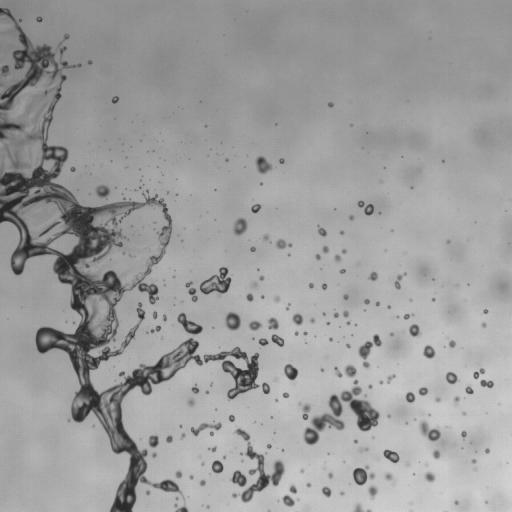droplet: (198, 267, 232, 297), (418, 420, 441, 441), (352, 464, 375, 485), (224, 311, 241, 331), (283, 363, 298, 385), (255, 155, 272, 174), (297, 401, 312, 421), (232, 217, 247, 236), (94, 184, 110, 199), (357, 200, 373, 215), (382, 449, 399, 463), (281, 494, 299, 507), (422, 344, 435, 359), (445, 371, 460, 384), (275, 238, 292, 249), (408, 324, 421, 337), (271, 334, 284, 347), (211, 460, 223, 474), (266, 317, 279, 329), (384, 472, 396, 485), (367, 485, 378, 499), (247, 320, 262, 330), (473, 367, 485, 379), (292, 312, 303, 325), (148, 435, 159, 447), (424, 471, 435, 482), (29, 37, 40, 48), (106, 192, 117, 203), (78, 196, 89, 207), (91, 196, 102, 207), (244, 212, 255, 223), (224, 218, 235, 229), (340, 219, 351, 230), (9, 236, 20, 247), (321, 252, 332, 263), (26, 255, 37, 266), (153, 300, 164, 311), (142, 302, 153, 313), (71, 312, 82, 323), (142, 316, 153, 327), (215, 316, 226, 327), (65, 323, 76, 334), (261, 327, 272, 338), (115, 328, 126, 339), (415, 335, 426, 346), (106, 339, 117, 350), (351, 355, 362, 366), (462, 374, 473, 385), (224, 376, 235, 387), (342, 379, 353, 390), (92, 381, 103, 392), (453, 381, 464, 392), (269, 385, 280, 396), (250, 386, 261, 397), (120, 396, 131, 407), (85, 411, 96, 422), (347, 411, 358, 422), (222, 421, 233, 432), (98, 431, 109, 442), (135, 439, 146, 450), (236, 439, 247, 450), (119, 451, 130, 462), (427, 461, 438, 472), (263, 464, 274, 475), (222, 466, 233, 477), (117, 467, 128, 478), (246, 473, 257, 484), (279, 474, 290, 485), (133, 482, 144, 493), (277, 483, 288, 494), (317, 224, 327, 236), (405, 391, 415, 403), (251, 203, 262, 213), (367, 271, 378, 281), (321, 486, 331, 497), (261, 382, 270, 394), (417, 386, 429, 395), (386, 373, 396, 383), (190, 383, 199, 394), (288, 483, 297, 494), (262, 233, 271, 243), (258, 338, 268, 347), (465, 383, 473, 394), (249, 280, 258, 289), (6, 57, 15, 66), (60, 161, 69, 170), (248, 161, 257, 170), (318, 236, 327, 245), (328, 246, 337, 255), (143, 275, 152, 284), (168, 313, 177, 322), (316, 315, 325, 324), (239, 318, 248, 327), (260, 319, 269, 328), (300, 320, 309, 329), (325, 326, 334, 335), (48, 347, 57, 356), (59, 350, 68, 359), (470, 379, 479, 388), (340, 400, 349, 409), (369, 400, 378, 409), (307, 409, 316, 418), (232, 419, 241, 428), (303, 419, 312, 428), (122, 422, 131, 431), (411, 423, 420, 432), (317, 429, 326, 438), (430, 440, 439, 449), (212, 451, 221, 460), (476, 451, 485, 460), (248, 458, 257, 467), (325, 479, 334, 488), (166, 490, 175, 499), (334, 253, 342, 263), (432, 449, 440, 459), (187, 397, 195, 406), (357, 447, 369, 453), (453, 395, 460, 405), (130, 505, 141, 511), (281, 505, 292, 511), (449, 505, 460, 511), (272, 295, 280, 303), (208, 445, 217, 452), (333, 308, 339, 318), (322, 245, 329, 253), (246, 293, 253, 301), (342, 310, 349, 318), (228, 414, 235, 422), (175, 470, 182, 478), (151, 310, 157, 319), (112, 96, 119, 103), (363, 298, 370, 305), (7, 20, 14, 27), (24, 30, 31, 37), (60, 67, 67, 74), (45, 139, 52, 146), (254, 150, 261, 157), (264, 155, 271, 162), (265, 169, 272, 176), (257, 172, 264, 179), (106, 182, 113, 189), (232, 213, 239, 220), (2, 220, 9, 227), (245, 220, 252, 227), (240, 231, 247, 238), (231, 233, 238, 240), (270, 235, 277, 242), (282, 246, 289, 253), (50, 253, 57, 260), (337, 261, 344, 268), (51, 272, 58, 279), (192, 282, 199, 289), (314, 282, 321, 289), (64, 283, 71, 290), (194, 289, 201, 296), (141, 290, 148, 297), (252, 292, 259, 299), (379, 301, 386, 308), (150, 303, 157, 310), (233, 307, 240, 314), (288, 308, 295, 315), (144, 311, 151, 318), (326, 313, 333, 320), (301, 316, 308, 323), (155, 317, 162, 324), (276, 317, 283, 324), (194, 318, 201, 325), (406, 318, 413, 325), (43, 320, 50, 327), (292, 323, 299, 330), (296, 324, 303, 331), (269, 327, 276, 334), (231, 328, 238, 335), (273, 328, 280, 335), (184, 332, 191, 339), (191, 333, 198, 340), (358, 338, 365, 345), (225, 344, 232, 351), (370, 344, 377, 351), (212, 347, 219, 354), (365, 354, 372, 361), (256, 357, 263, 364), (188, 358, 195, 365), (98, 359, 105, 366), (149, 359, 156, 366), (338, 366, 345, 373), (88, 368, 95, 375), (125, 369, 132, 376), (478, 373, 485, 380), (254, 377, 261, 384), (372, 381, 379, 388), (73, 383, 80, 390), (133, 384, 140, 391), (198, 385, 205, 392), (360, 385, 367, 392), (188, 391, 195, 398), (413, 392, 420, 399), (323, 394, 330, 401), (325, 407, 332, 414), (65, 411, 72, 418), (337, 413, 344, 420), (416, 415, 423, 422), (120, 416, 127, 423), (70, 419, 77, 426), (95, 422, 102, 429), (427, 422, 434, 429), (437, 425, 444, 432), (202, 427, 209, 434), (100, 430, 107, 437), (236, 434, 243, 441), (421, 435, 428, 442), (157, 436, 164, 443), (312, 441, 319, 448), (303, 442, 310, 449), (152, 445, 159, 452), (146, 446, 153, 453), (252, 446, 259, 453), (143, 454, 150, 461), (282, 463, 289, 470), (421, 466, 428, 473), (428, 466, 435, 473), (240, 468, 247, 475), (142, 470, 149, 477), (181, 471, 188, 478), (433, 472, 440, 479), (170, 475, 177, 482), (193, 475, 200, 482), (155, 476, 162, 483), (364, 479, 371, 486), (423, 479, 430, 486), (157, 488, 164, 495), (252, 490, 259, 497), (289, 492, 296, 499), (107, 497, 114, 504), (348, 503, 355, 510), (360, 503, 367, 510), (308, 282, 314, 290), (321, 282, 327, 290), (166, 435, 172, 443), (348, 214, 354, 221), (315, 253, 321, 260), (309, 317, 315, 324), (272, 376, 279, 382), (282, 392, 289, 398), (327, 472, 333, 479), (199, 479, 205, 486), (162, 314, 167, 322), (36, 16, 42, 22), (278, 158, 284, 164), (341, 248, 347, 254), (435, 396, 441, 402), (0, 138, 4, 147), (339, 268, 346, 273), (180, 432, 185, 439), (0, 0, 5, 7), (328, 102, 334, 107), (250, 246, 256, 251), (259, 275, 264, 281), (343, 294, 348, 300), (374, 301, 380, 306), (483, 308, 488, 314), (481, 322, 486, 328), (303, 330, 308, 336), (345, 343, 351, 348), (484, 448, 490, 453), (151, 452, 156, 458), (471, 458, 477, 463), (454, 499, 459, 505), (444, 424, 451, 428), (70, 166, 75, 171), (339, 230, 344, 235), (445, 239, 450, 244), (345, 320, 350, 325), (378, 380, 383, 385), (266, 444, 271, 449), (405, 461, 410, 466), (300, 468, 305, 473), (306, 482, 311, 487), (145, 490, 150, 495), (9, 9, 14, 14), (1, 13, 6, 18), (17, 21, 22, 26), (58, 34, 63, 39), (45, 41, 50, 46), (9, 47, 14, 52), (49, 47, 54, 52), (61, 56, 66, 61), (73, 59, 78, 64), (66, 60, 71, 65), (81, 61, 86, 66), (73, 66, 78, 71), (61, 80, 66, 85), (328, 97, 333, 102), (61, 142, 66, 147), (279, 153, 284, 158), (63, 183, 68, 188), (141, 185, 146, 190), (71, 190, 76, 195), (149, 192, 154, 197), (140, 197, 145, 202), (252, 199, 257, 204), (359, 206, 364, 211), (372, 208, 377, 213), (166, 209, 171, 214), (346, 210, 351, 215), (365, 214, 370, 219), (170, 215, 175, 220), (344, 216, 349, 221), (170, 220, 175, 225), (323, 225, 328, 230), (313, 226, 318, 231), (325, 228, 330, 233), (261, 229, 266, 234), (258, 232, 263, 237), (169, 233, 174, 238), (317, 234, 322, 239), (168, 238, 173, 243), (284, 238, 289, 243), (271, 239, 276, 244), (165, 244, 170, 249), (343, 244, 348, 249), (11, 245, 16, 250), (336, 249, 341, 254), (318, 250, 323, 255), (339, 252, 344, 257), (35, 254, 40, 259), (311, 256, 316, 261), (316, 259, 321, 264), (5, 260, 10, 265), (157, 260, 162, 265), (150, 264, 155, 269), (22, 266, 27, 271), (373, 267, 378, 272), (8, 269, 13, 274), (398, 269, 403, 274), (257, 270, 262, 275), (365, 271, 370, 276), (16, 273, 21, 278), (376, 273, 381, 278), (392, 275, 397, 280), (401, 275, 406, 280), (254, 276, 259, 281), (55, 279, 60, 284), (256, 279, 261, 284), (368, 279, 373, 284), (372, 279, 377, 284), (398, 279, 403, 284), (228, 282, 233, 287), (189, 283, 194, 288), (326, 283, 331, 288), (390, 283, 395, 288), (133, 285, 138, 290), (246, 288, 251, 293), (212, 289, 217, 294), (122, 290, 127, 295), (156, 290, 161, 295), (220, 292, 225, 297), (186, 293, 191, 298), (362, 294, 367, 299), (242, 297, 247, 302), (369, 299, 374, 304), (362, 303, 367, 308), (113, 304, 118, 309), (140, 305, 145, 310), (177, 308, 182, 313), (406, 309, 411, 314), (133, 311, 138, 316), (399, 311, 404, 316), (173, 312, 178, 317), (338, 312, 343, 317), (156, 313, 161, 318), (221, 313, 226, 318), (265, 314, 270, 319), (185, 315, 190, 320), (134, 316, 139, 321), (343, 316, 348, 321), (349, 320, 354, 325), (485, 321, 490, 326), (177, 322, 182, 327), (476, 322, 481, 327), (418, 326, 423, 331), (298, 329, 303, 334), (373, 329, 378, 334), (31, 331, 36, 336), (405, 331, 410, 336), (378, 335, 383, 340), (411, 335, 416, 340), (448, 335, 453, 340), (254, 336, 259, 341), (266, 336, 271, 341), (368, 337, 373, 342), (444, 340, 449, 345), (272, 342, 277, 347), (32, 344, 37, 349), (262, 344, 267, 349), (445, 344, 450, 349), (453, 344, 458, 349), (432, 345, 437, 350), (239, 346, 244, 351), (419, 346, 424, 351), (109, 347, 114, 352), (166, 347, 171, 352), (246, 353, 251, 358), (432, 354, 437, 359), (199, 355, 204, 360), (422, 355, 427, 360), (107, 356, 112, 361), (207, 359, 212, 364), (284, 359, 289, 364), (291, 362, 296, 367), (116, 367, 121, 372), (218, 367, 223, 372), (70, 368, 75, 373), (279, 368, 284, 373), (451, 368, 456, 373), (175, 370, 180, 375), (387, 370, 392, 375), (441, 371, 446, 376), (468, 371, 473, 376), (294, 375, 299, 380), (169, 376, 174, 381), (284, 376, 289, 381), (349, 376, 354, 381), (382, 377, 387, 382), (390, 378, 395, 383), (159, 380, 164, 385), (454, 380, 459, 385), (356, 381, 361, 386), (108, 382, 113, 387), (446, 382, 451, 387), (417, 383, 422, 388), (257, 385, 262, 390), (207, 386, 212, 391), (223, 387, 228, 392), (268, 388, 273, 393), (149, 391, 154, 396), (401, 391, 406, 396), (70, 392, 75, 397), (237, 392, 242, 397), (266, 392, 271, 397), (436, 392, 441, 397), (464, 392, 469, 397), (141, 393, 146, 398), (449, 394, 454, 399), (278, 395, 283, 400), (401, 396, 406, 401), (182, 398, 187, 403), (458, 398, 463, 403), (301, 399, 306, 404), (193, 401, 198, 406), (435, 401, 440, 406), (184, 403, 189, 408), (424, 408, 429, 413), (298, 409, 303, 414), (233, 414, 238, 419), (224, 417, 229, 422), (376, 417, 381, 422), (206, 419, 211, 424), (193, 424, 198, 429), (353, 424, 358, 429), (240, 425, 245, 430), (179, 427, 184, 432), (210, 427, 215, 432), (244, 428, 249, 433), (339, 428, 344, 433), (151, 430, 156, 435), (198, 430, 203, 435), (188, 431, 193, 436), (248, 436, 253, 441), (167, 441, 172, 446), (209, 442, 214, 447), (354, 442, 359, 447), (389, 446, 394, 451), (242, 447, 247, 452), (428, 449, 433, 454), (109, 450, 114, 455), (361, 450, 366, 455), (438, 450, 443, 455), (471, 453, 476, 458), (438, 454, 443, 459), (244, 455, 249, 460), (429, 455, 434, 460), (209, 457, 214, 462), (196, 458, 201, 463), (219, 458, 224, 463), (385, 458, 390, 463), (466, 458, 471, 463), (471, 462, 476, 467), (359, 463, 364, 468), (234, 465, 239, 470), (348, 469, 353, 474), (323, 470, 328, 475), (211, 471, 216, 476), (217, 471, 222, 476), (228, 472, 233, 477), (332, 472, 337, 477), (323, 473, 328, 478), (348, 473, 353, 478), (350, 479, 355, 484), (386, 479, 391, 484), (204, 481, 209, 486), (113, 483, 118, 488), (294, 484, 299, 489), (329, 491, 334, 496), (226, 492, 231, 497), (374, 492, 379, 497), (320, 493, 325, 498), (236, 495, 241, 500), (457, 497, 462, 502), (278, 498, 283, 503), (293, 500, 298, 505), (177, 502, 182, 507), (185, 504, 190, 509), (368, 383, 372, 389), (87, 60, 92, 64), (389, 332, 394, 336), (209, 381, 213, 386), (461, 411, 466, 415), (353, 439, 358, 443), (201, 461, 205, 466), (472, 467, 477, 471), (189, 474, 193, 479), (340, 491, 345, 495), (0, 3, 4, 8), (152, 221, 156, 225), (260, 294, 264, 298), (322, 312, 326, 316), (326, 321, 330, 325), (294, 331, 298, 335), (329, 337, 333, 341), (320, 368, 324, 372), (205, 390, 209, 394), (387, 414, 391, 418), (222, 455, 226, 459), (424, 462, 428, 466), (204, 508, 209, 511), (349, 123, 353, 126), (225, 158, 228, 162), (259, 182, 263, 185), (166, 190, 169, 194), (287, 252, 290, 256), (432, 297, 435, 301), (409, 298, 412, 302), (387, 305, 390, 309), (396, 315, 400, 318), (160, 336, 163, 340), (275, 398, 278, 402), (179, 424, 182, 428), (371, 435, 374, 439), (281, 448, 284, 452), (198, 454, 201, 458), (240, 459, 244, 462), (175, 496, 178, 500), (206, 504, 209, 508), (0, 62, 2, 67), (204, 124, 207, 127), (410, 186, 413, 189), (214, 188, 217, 191), (175, 193, 178, 196), (378, 211, 381, 214), (180, 239, 183, 242), (384, 248, 387, 251), (172, 275, 175, 278), (163, 283, 166, 286), (180, 300, 183, 303), (354, 323, 357, 326), (211, 326, 214, 329), (497, 402, 500, 405), (428, 413, 431, 416), (270, 416, 273, 419), (92, 424, 95, 427), (327, 452, 330, 455), (342, 460, 345, 463), (412, 472, 415, 475), (484, 500, 487, 503), (36, 13, 39, 16), (33, 15, 36, 18), (15, 18, 18, 21), (41, 18, 44, 21), (36, 21, 39, 24), (68, 35, 71, 38), (59, 44, 62, 47), (62, 50, 65, 53), (88, 57, 91, 60), (91, 60, 94, 63), (87, 63, 90, 66), (112, 93, 115, 96), (116, 93, 119, 96), (58, 97, 61, 100), (108, 99, 111, 102), (115, 101, 118, 104), (324, 102, 327, 105), (53, 105, 56, 108), (326, 105, 329, 108), (329, 106, 332, 109), (50, 119, 53, 122), (274, 119, 277, 122), (271, 122, 274, 125), (204, 127, 207, 130), (47, 129, 50, 132), (148, 148, 151, 151), (152, 151, 155, 154), (400, 152, 403, 155), (226, 155, 229, 158), (397, 155, 400, 158), (109, 156, 112, 159), (222, 156, 225, 159), (276, 156, 279, 159), (441, 156, 444, 159), (400, 157, 403, 160), (438, 159, 441, 162), (444, 159, 447, 162), (276, 160, 279, 163), (283, 160, 286, 163), (224, 161, 227, 164), (441, 162, 444, 165), (279, 163, 282, 166), (74, 165, 77, 168), (155, 167, 158, 170), (71, 171, 74, 174), (138, 175, 141, 178), (139, 181, 142, 184), (256, 181, 259, 184), (262, 182, 265, 185), (212, 185, 215, 188), (259, 185, 262, 188), (135, 186, 138, 189), (165, 187, 168, 190), (216, 187, 219, 190), (138, 188, 141, 191), (410, 188, 413, 191), (212, 190, 215, 193), (172, 192, 175, 195), (175, 195, 178, 198), (360, 197, 363, 200), (125, 198, 128, 201), (257, 201, 260, 204), (363, 203, 366, 206), (165, 204, 168, 207), (333, 204, 336, 207), (335, 208, 338, 211), (249, 210, 252, 213), (256, 210, 259, 213), (369, 213, 372, 216), (379, 213, 382, 216), (319, 224, 322, 227), (340, 227, 343, 230), (336, 229, 339, 232), (343, 229, 346, 232), (170, 231, 173, 234), (389, 231, 392, 234), (337, 233, 340, 236), (265, 239, 268, 242), (448, 242, 451, 245), (291, 243, 294, 246), (248, 244, 251, 247), (253, 244, 256, 247), (247, 249, 250, 252), (251, 251, 254, 254), (290, 252, 293, 255), (285, 255, 288, 258), (288, 255, 291, 258), (219, 264, 222, 267), (223, 264, 226, 267), (339, 266, 342, 269), (259, 267, 262, 270), (253, 268, 256, 271), (345, 269, 348, 272), (406, 271, 409, 274), (170, 272, 173, 275), (216, 272, 219, 275), (341, 272, 344, 275), (431, 274, 434, 277), (205, 276, 208, 279), (171, 277, 174, 280), (263, 277, 266, 280), (428, 277, 431, 280), (163, 280, 166, 283), (323, 280, 326, 283), (182, 282, 185, 285), (463, 282, 466, 285), (469, 282, 472, 285), (305, 284, 308, 287), (466, 285, 469, 288), (311, 287, 314, 290), (396, 288, 399, 291), (343, 291, 346, 294), (431, 294, 434, 297), (340, 295, 343, 298), (263, 296, 266, 299), (347, 296, 350, 299), (428, 297, 431, 300), (260, 298, 263, 301), (375, 298, 378, 301), (434, 298, 437, 301), (287, 299, 290, 302), (190, 300, 193, 303), (116, 301, 119, 304), (284, 303, 287, 306), (135, 304, 138, 307), (288, 305, 291, 308), (376, 305, 379, 308), (390, 305, 393, 308), (482, 306, 485, 309), (485, 306, 488, 309), (282, 307, 285, 310), (323, 309, 326, 312), (334, 309, 337, 312), (404, 310, 407, 313), (480, 310, 483, 313), (363, 311, 366, 314), (486, 311, 489, 314), (319, 312, 322, 315), (394, 312, 397, 315), (143, 313, 146, 316), (483, 313, 486, 316), (165, 314, 168, 317), (393, 316, 396, 319), (159, 323, 162, 326), (212, 323, 215, 326), (328, 323, 331, 326), (138, 324, 141, 327), (356, 324, 359, 327), (338, 327, 341, 330), (482, 327, 485, 330), (115, 328, 118, 331), (159, 328, 162, 331), (147, 329, 150, 332), (389, 329, 392, 332), (125, 330, 128, 333), (134, 331, 137, 334), (291, 331, 294, 334), (352, 332, 355, 335), (393, 332, 396, 335), (302, 334, 305, 337), (305, 334, 308, 337), (294, 335, 297, 338), (331, 336, 334, 339), (130, 338, 133, 341), (326, 338, 329, 341), (283, 340, 286, 343), (257, 343, 260, 346), (304, 343, 307, 346), (125, 345, 128, 348), (344, 346, 347, 349), (115, 354, 118, 357), (321, 365, 324, 368), (481, 365, 484, 368), (323, 368, 326, 371), (317, 369, 320, 372), (332, 369, 335, 372), (395, 373, 398, 376), (336, 376, 339, 379), (491, 379, 494, 382), (207, 381, 210, 384), (266, 381, 269, 384), (368, 381, 371, 384), (211, 383, 214, 386), (371, 385, 374, 388), (484, 385, 487, 388), (491, 385, 494, 388), (462, 388, 465, 391), (282, 389, 285, 392), (205, 393, 208, 396), (468, 393, 471, 396), (283, 397, 286, 400), (275, 401, 278, 404), (407, 401, 410, 404), (211, 406, 214, 409), (216, 407, 219, 410), (462, 408, 465, 411), (270, 412, 273, 415), (389, 412, 392, 415), (430, 412, 433, 415), (458, 412, 461, 415), (272, 415, 275, 418), (462, 415, 465, 418), (267, 416, 270, 419), (389, 416, 392, 419), (251, 418, 254, 421), (255, 420, 258, 423), (178, 421, 181, 424), (407, 421, 410, 424), (446, 422, 449, 425), (404, 424, 407, 427), (176, 425, 179, 428), (219, 426, 222, 429), (458, 430, 461, 433), (269, 431, 272, 434), (274, 432, 277, 435), (178, 433, 181, 436), (209, 435, 212, 438), (459, 435, 462, 438), (171, 436, 174, 439), (182, 436, 185, 439), (463, 436, 466, 439), (350, 439, 353, 442), (270, 442, 273, 445), (204, 446, 207, 449), (270, 446, 273, 449), (463, 446, 466, 449), (215, 447, 218, 450), (265, 447, 268, 450), (283, 447, 286, 450), (482, 447, 485, 450), (488, 447, 491, 450), (278, 448, 281, 451), (381, 448, 384, 451), (208, 449, 211, 452), (327, 449, 330, 452), (460, 449, 463, 452), (482, 450, 485, 453), (327, 454, 330, 457), (225, 455, 228, 458), (395, 461, 398, 464), (505, 463, 508, 466), (297, 468, 300, 471), (303, 468, 306, 471), (300, 472, 303, 475), (409, 472, 412, 475), (229, 480, 232, 483), (309, 481, 312, 484), (303, 482, 306, 485), (304, 485, 307, 488), (340, 488, 343, 491), (183, 494, 186, 497), (338, 494, 341, 497), (341, 494, 344, 497), (451, 500, 454, 503), (487, 500, 490, 503), (203, 503, 206, 506), (484, 503, 487, 506), (455, 504, 458, 507), (173, 507, 176, 510), (269, 507, 272, 510), (109, 257, 111, 261), (267, 509, 271, 511), (409, 509, 413, 511), (441, 160, 444, 162), (124, 166, 127, 168), (139, 179, 141, 182), (139, 185, 141, 188), (114, 186, 117, 188), (134, 188, 136, 191), (88, 192, 90, 195), (121, 192, 123, 195), (333, 208, 336, 210), (390, 229, 393, 231), (257, 268, 259, 271), (162, 279, 165, 281), (363, 309, 366, 311), (65, 320, 67, 323), (314, 334, 316, 337), (252, 337, 254, 340), (443, 345, 445, 348), (214, 408, 217, 410), (405, 421, 407, 424), (273, 431, 275, 434), (475, 450, 477, 453), (264, 452, 267, 454), (277, 499, 279, 502), (409, 502, 412, 504), (275, 123, 277, 125), (220, 141, 222, 143), (210, 148, 212, 150), (125, 156, 127, 158), (110, 160, 112, 162), (158, 181, 160, 183), (474, 221, 476, 223), (432, 278, 434, 280), (467, 283, 469, 285), (351, 334, 353, 336), (113, 346, 115, 348), (485, 412, 487, 414), (414, 418, 416, 420), (260, 423, 262, 425), (139, 438, 141, 440), (461, 447, 463, 449), (201, 504, 203, 506), (401, 156, 403, 157), (156, 166, 158, 167), (139, 168, 140, 170), (141, 175, 143, 176), (173, 304, 175, 305), (464, 397, 465, 399), (506, 462, 508, 463), (187, 496, 189, 497), (505, 210, 506, 211), (337, 341, 338, 342)
ligament: (358, 334, 381, 369), (190, 420, 222, 436), (184, 280, 198, 302), (334, 364, 357, 377), (394, 272, 407, 289), (352, 502, 372, 511), (145, 324, 161, 334), (479, 379, 494, 388), (445, 336, 455, 348), (403, 313, 414, 319), (461, 430, 466, 441), (285, 302, 291, 310), (302, 507, 309, 511), (443, 509, 448, 511), (142, 225, 144, 229), (252, 421, 256, 423), (218, 345, 220, 348), (152, 149, 153, 152), (305, 340, 306, 343)
